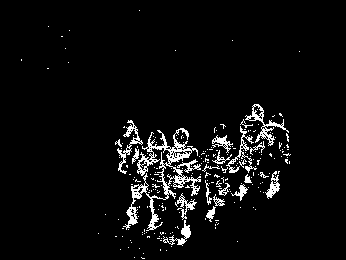person: (167, 126, 203, 245), (201, 123, 240, 225), (115, 119, 147, 227), (142, 126, 174, 233), (238, 101, 264, 198), (262, 110, 290, 198)
